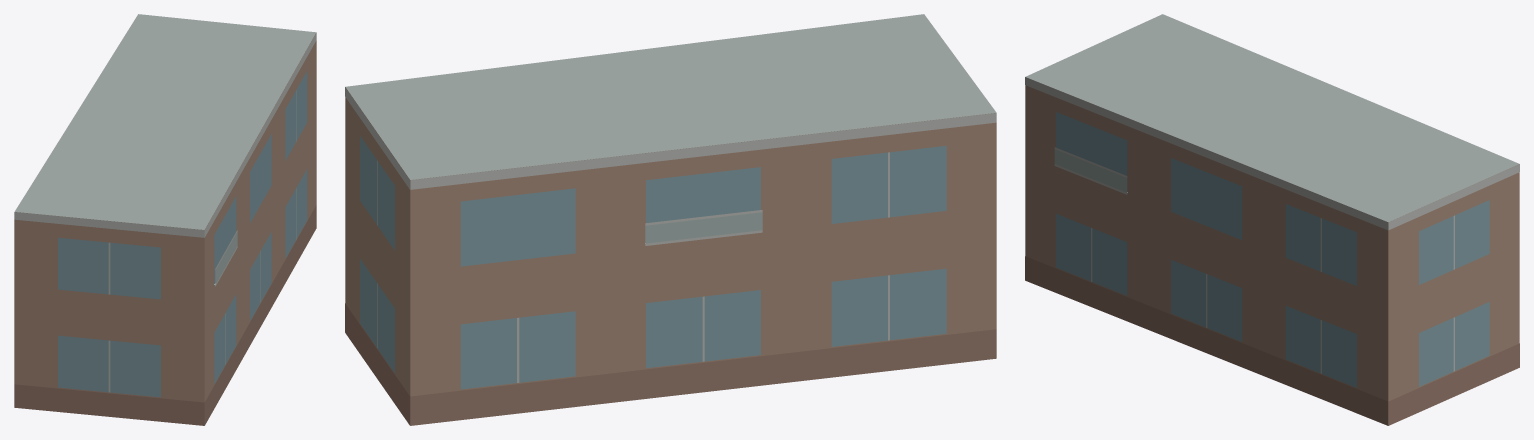
Rendered from survey-upis-32756278.glb.
The picture shows the model from 3 angles, left to right: view 1: azimuth 30°, elevation 25°; view 2: azimuth 150°, elevation 25°; view 3: azimuth 270°, elevation 25°; orthographic projection. The views are drawn at different scales.
Parts seen in each view (by area): view 1: survey-upis-32756278.tmp; view 2: survey-upis-32756278.tmp; view 3: survey-upis-32756278.tmp.
Part boxes in pixels (bbox=[...]): survey-upis-32756278.tmp: bbox=[14, 14, 316, 425]; survey-upis-32756278.tmp: bbox=[345, 14, 996, 425]; survey-upis-32756278.tmp: bbox=[1025, 14, 1519, 425].
Bounding box in the file's own units: 13.39 × 6.1 × 13.44.
